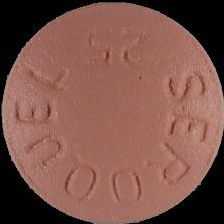49999-603: (0, 0, 224, 224)
